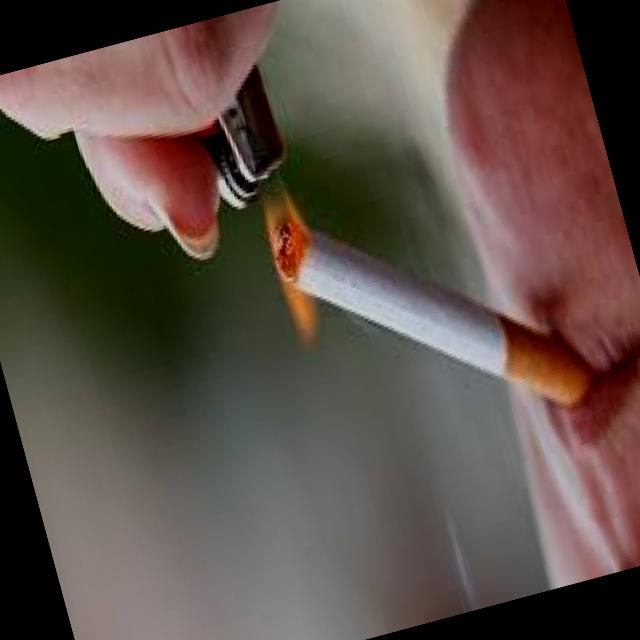cigarette: (256, 170, 566, 472)
